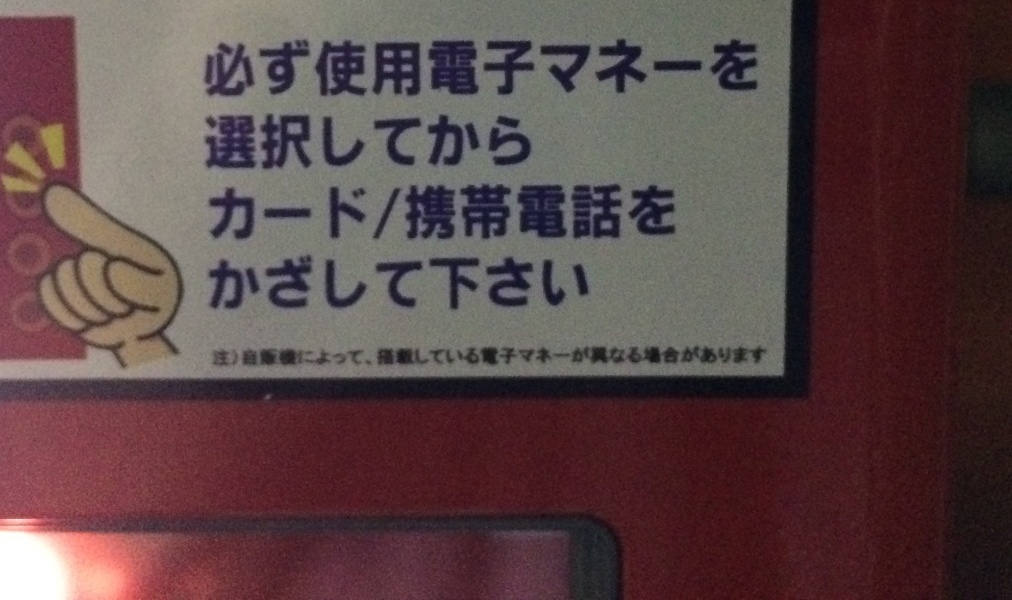text: (209, 40, 224, 99), (225, 40, 240, 99), (241, 40, 256, 99), (257, 40, 272, 99), (273, 40, 288, 99), (289, 40, 304, 99), (305, 40, 320, 99), (321, 40, 336, 99), (337, 40, 352, 99), (353, 40, 368, 99), (369, 40, 384, 99), (385, 40, 400, 99), (401, 40, 416, 99), (417, 40, 432, 99), (433, 40, 448, 99), (449, 40, 464, 99), (465, 40, 480, 99), (481, 40, 496, 99), (497, 40, 512, 99), (513, 40, 528, 99), (529, 40, 544, 99), (545, 40, 560, 99), (561, 40, 576, 99), (577, 40, 592, 99), (593, 40, 608, 99), (609, 40, 624, 99), (625, 40, 640, 99), (641, 40, 656, 99), (657, 40, 672, 99), (673, 40, 688, 99), (689, 40, 704, 99), (705, 40, 720, 99), (721, 40, 736, 99), (737, 40, 752, 99), (209, 253, 224, 311), (225, 253, 240, 311), (241, 253, 256, 311), (257, 253, 272, 311), (273, 253, 288, 311), (289, 253, 304, 311), (305, 253, 320, 311), (321, 253, 336, 311), (337, 253, 352, 311), (353, 253, 368, 311), (369, 253, 384, 311), (385, 253, 400, 311), (401, 253, 416, 311), (417, 253, 432, 311), (433, 253, 448, 311), (449, 253, 464, 311), (465, 253, 480, 311), (481, 253, 496, 311), (497, 253, 512, 311), (513, 253, 528, 311), (529, 253, 544, 311), (545, 253, 560, 311), (561, 253, 576, 311), (225, 184, 240, 241), (241, 184, 256, 241), (257, 184, 272, 241), (273, 184, 288, 241), (289, 184, 304, 241), (305, 184, 320, 241), (321, 184, 336, 241), (337, 184, 352, 241), (353, 184, 368, 241), (369, 184, 384, 241), (385, 184, 400, 241), (401, 184, 416, 241), (417, 184, 432, 241), (433, 184, 448, 241), (449, 184, 464, 241), (465, 184, 480, 241), (481, 184, 496, 241), (497, 184, 512, 241), (513, 184, 528, 241), (529, 184, 544, 241), (545, 184, 560, 241), (561, 184, 576, 241), (577, 184, 592, 241), (593, 184, 608, 241), (609, 184, 624, 241), (625, 184, 640, 241), (641, 184, 656, 241), (657, 184, 672, 241), (209, 114, 224, 170), (225, 114, 240, 170), (241, 114, 256, 170), (257, 114, 272, 170), (273, 114, 288, 170), (289, 114, 304, 170), (305, 114, 320, 170), (321, 114, 336, 170), (337, 114, 352, 170), (353, 114, 368, 170), (369, 114, 384, 170), (385, 114, 400, 170), (401, 114, 416, 170), (417, 114, 432, 170), (433, 114, 448, 170), (449, 114, 464, 170), (465, 114, 480, 170), (481, 114, 496, 170), (497, 114, 512, 170), (513, 114, 528, 170), (210, 184, 224, 241), (577, 253, 589, 311), (753, 40, 760, 99), (225, 348, 240, 368), (241, 348, 256, 368), (257, 348, 272, 368), (273, 348, 288, 368), (289, 348, 304, 368), (305, 348, 320, 368), (321, 348, 336, 368), (337, 348, 352, 368), (353, 348, 368, 368), (369, 348, 384, 368), (385, 348, 400, 368), (401, 348, 416, 368), (417, 348, 432, 368), (433, 348, 448, 368), (449, 348, 464, 368), (465, 348, 480, 368), (481, 348, 496, 368), (497, 348, 512, 368), (513, 348, 528, 368), (529, 348, 544, 368), (545, 348, 560, 368), (561, 348, 576, 368), (577, 348, 592, 368), (593, 348, 608, 368), (609, 348, 624, 368), (625, 348, 640, 368), (641, 348, 656, 368), (657, 348, 672, 368), (673, 348, 688, 368), (689, 348, 704, 368), (705, 348, 720, 368), (721, 348, 736, 368), (737, 348, 752, 368), (203, 114, 208, 170), (753, 348, 767, 368), (673, 184, 677, 241), (213, 348, 224, 368), (205, 40, 208, 99), (529, 114, 532, 170)
